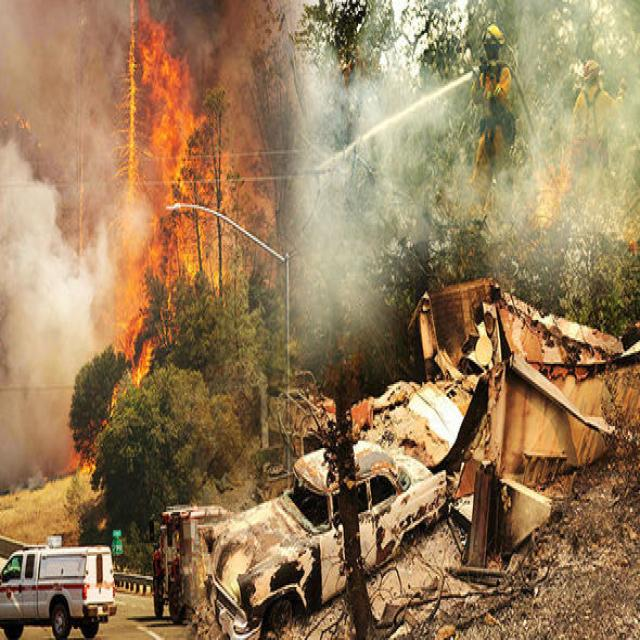fire: (151, 63, 200, 189)
smoke: (1, 188, 71, 481), (300, 79, 389, 309)
